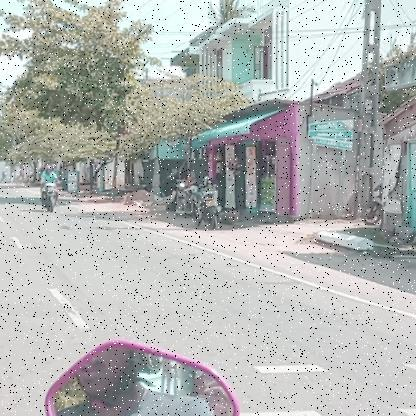motorcycle: (40, 181, 60, 212)
